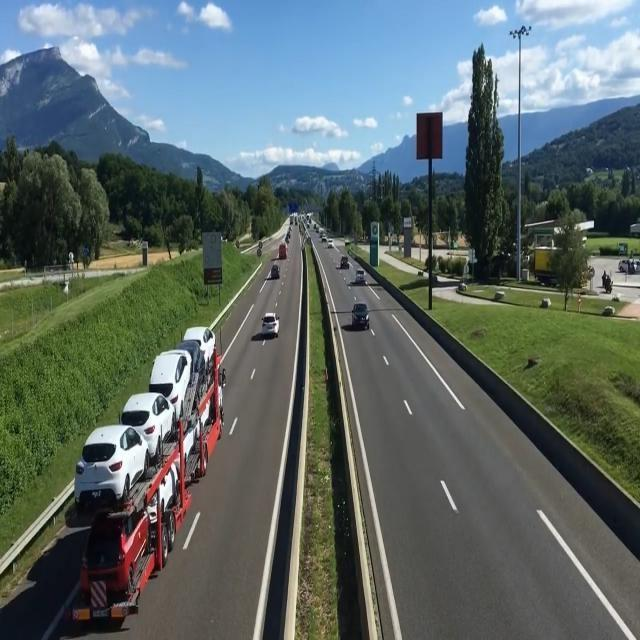Car: (74, 422, 154, 510), (120, 391, 177, 465), (146, 350, 195, 424), (182, 326, 218, 369), (349, 301, 372, 330), (261, 310, 280, 340), (355, 269, 365, 283), (270, 264, 280, 278), (340, 256, 349, 269), (327, 239, 334, 248)
Truck: (277, 242, 289, 261)
